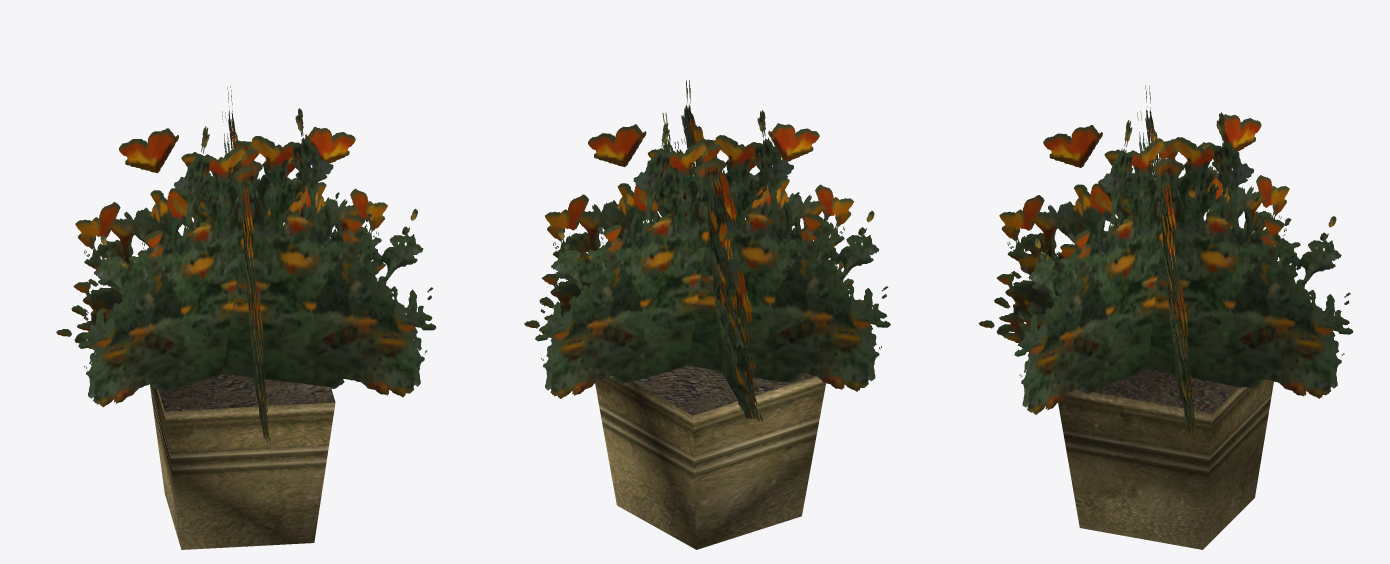
Rendered from frn_all_potted_plants_sml_s01_l2.fbx.
The picture shows the model from 3 angles, left to right: view 1: azimuth 30°, elevation 25°; view 2: azimuth 150°, elevation 25°; view 3: azimuth 270°, elevation 25°; orthographic projection.
Visible parts, largest first — view 1: mesh_node; view 2: mesh_node; view 3: mesh_node.
Part boxes in pixels (x1,y1,x2,y2): mesh_node: (56, 86, 436, 549); mesh_node: (524, 80, 890, 549); mesh_node: (978, 85, 1353, 549).
Size of the model in its own units: 1.15 by 1.15 by 1.06.
